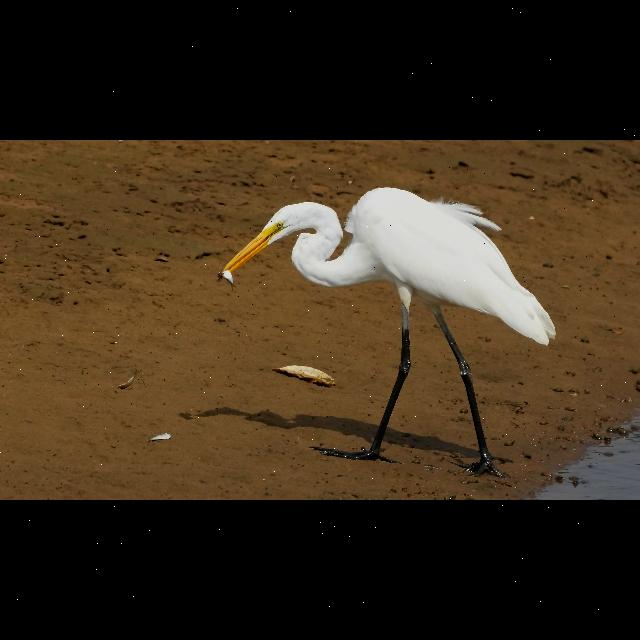egret: (222, 184, 566, 482)
